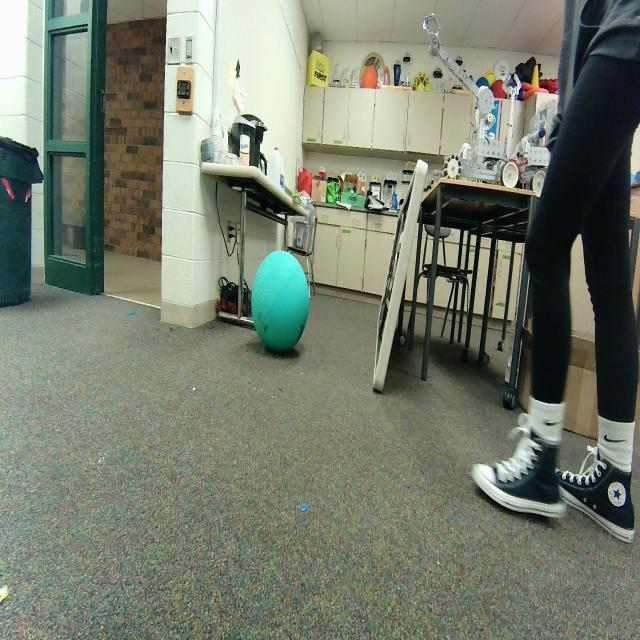algae: (252, 250, 310, 353)
